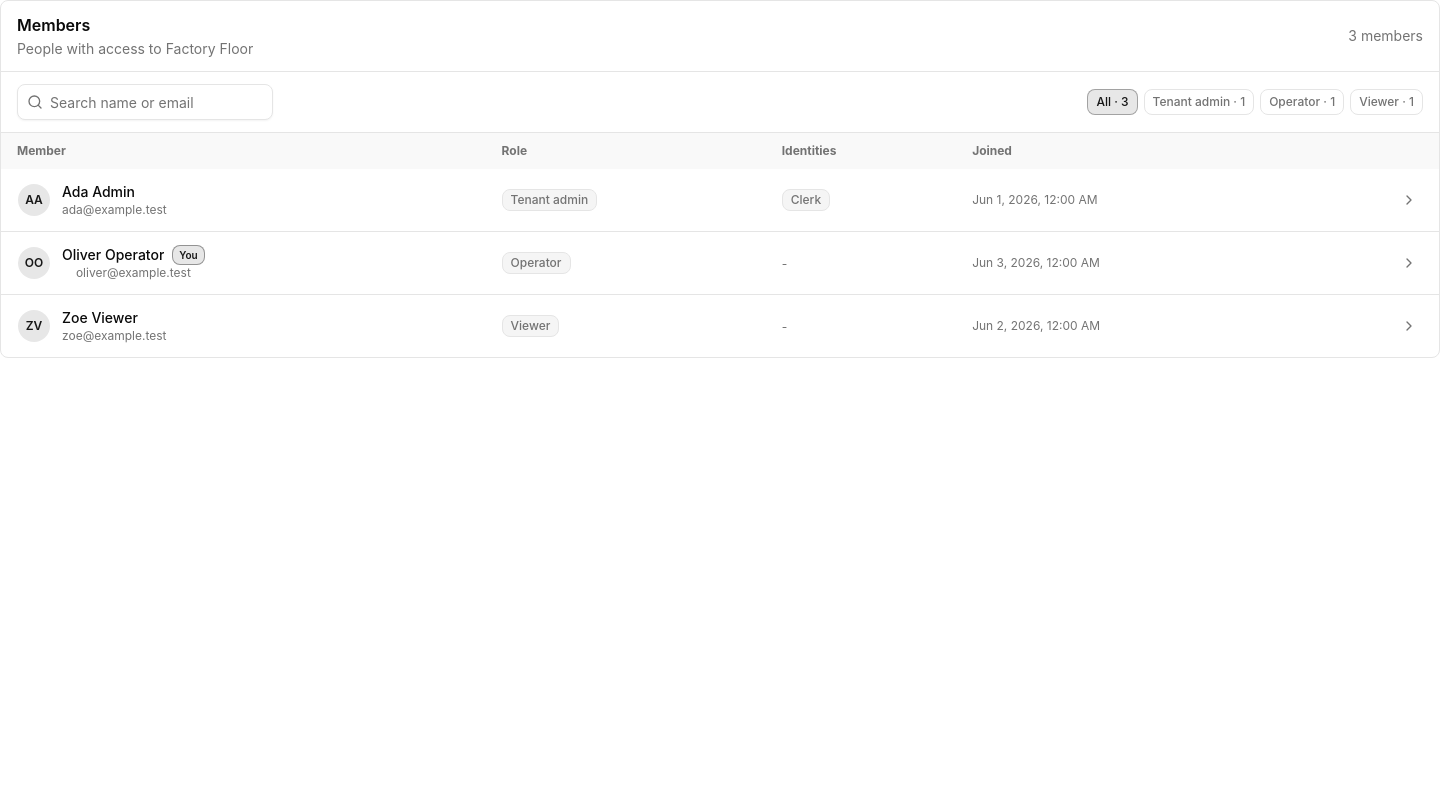
Scenario: MembersSection › blocks removing yourself
Click the button named "Manage Oliver Operator".
click(1409, 263)  # box [1395, 249, 1423, 277]
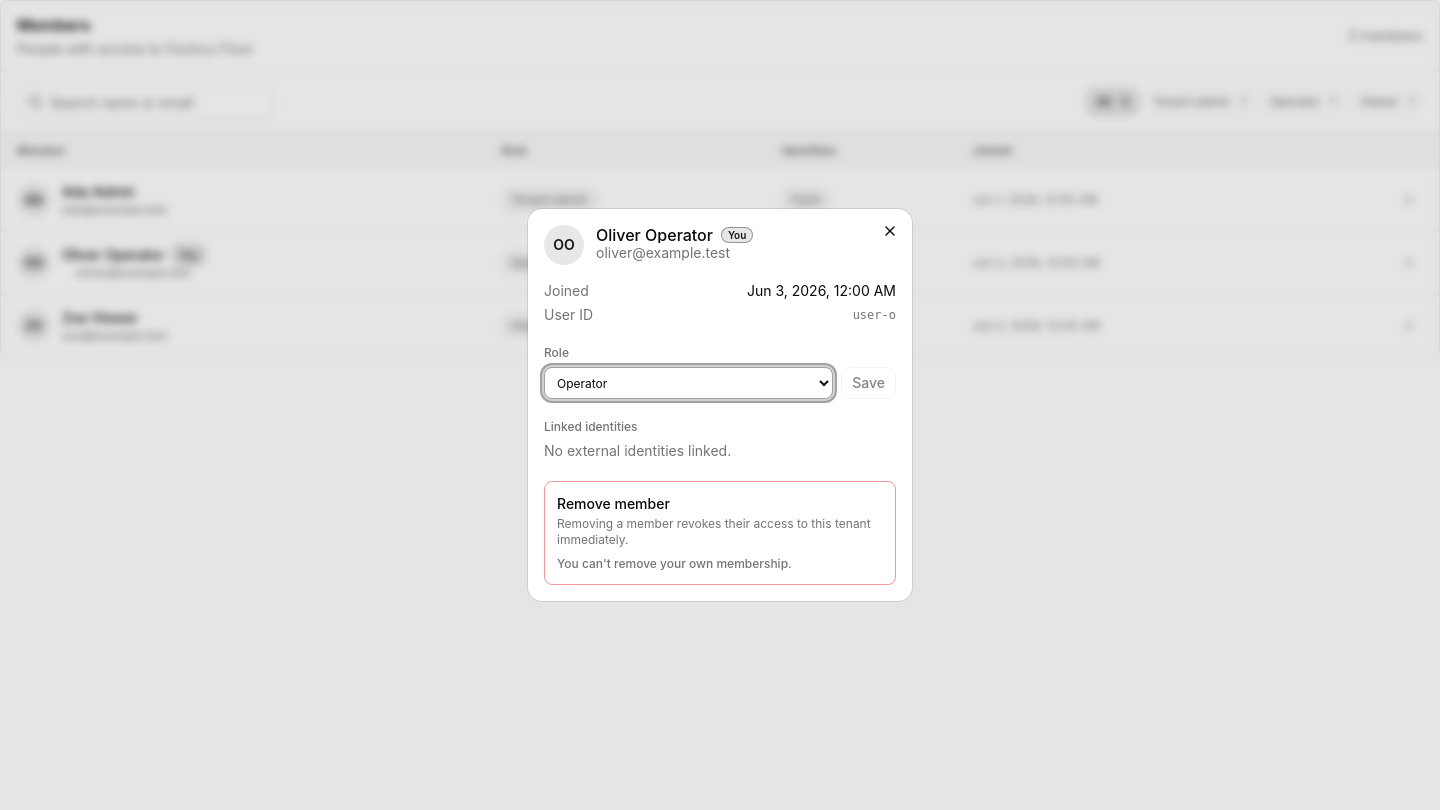
Expected: the text "You can't remove your own membership." is shown, [557, 556, 792, 571]
